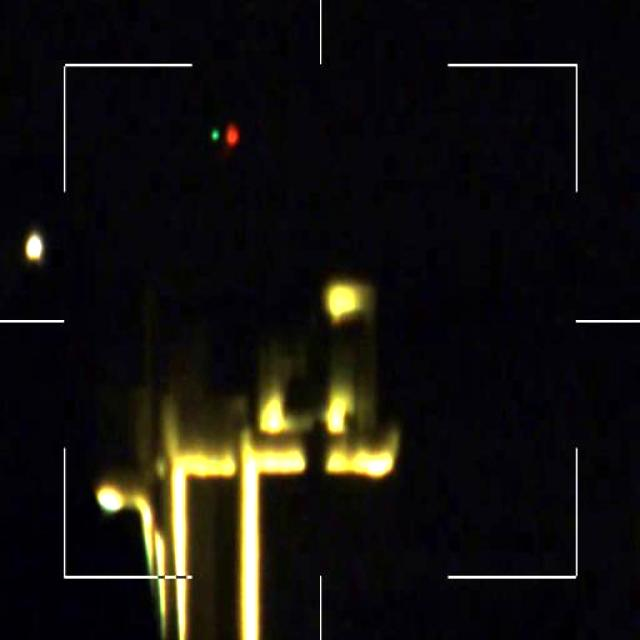bird: (212, 120, 240, 156)
